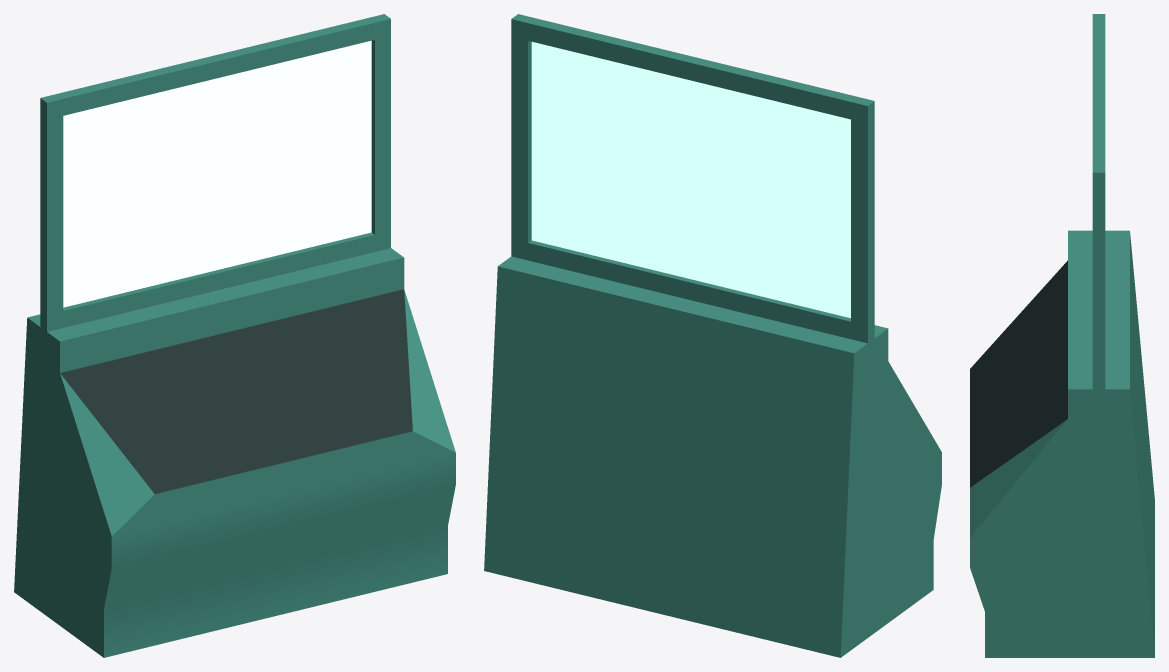
Rendered from consoleScreen.glb.
3 views of the same model, side by side, from view 1: azimuth 30°, elevation 25°; view 2: azimuth 150°, elevation 25°; view 3: azimuth 270°, elevation 25° (orthographic). The views are drawn at different scales.
Visible parts, largest first — view 1: consoleScreen; view 2: consoleScreen; view 3: consoleScreen.
Boxes of the visible parts, left/top/right/bottom form: consoleScreen: left=14, top=14, right=455, bottom=657; consoleScreen: left=484, top=14, right=941, bottom=657; consoleScreen: left=970, top=14, right=1154, bottom=657.
Bounding box in the file's own units: 1 × 1.43 × 0.4921.
